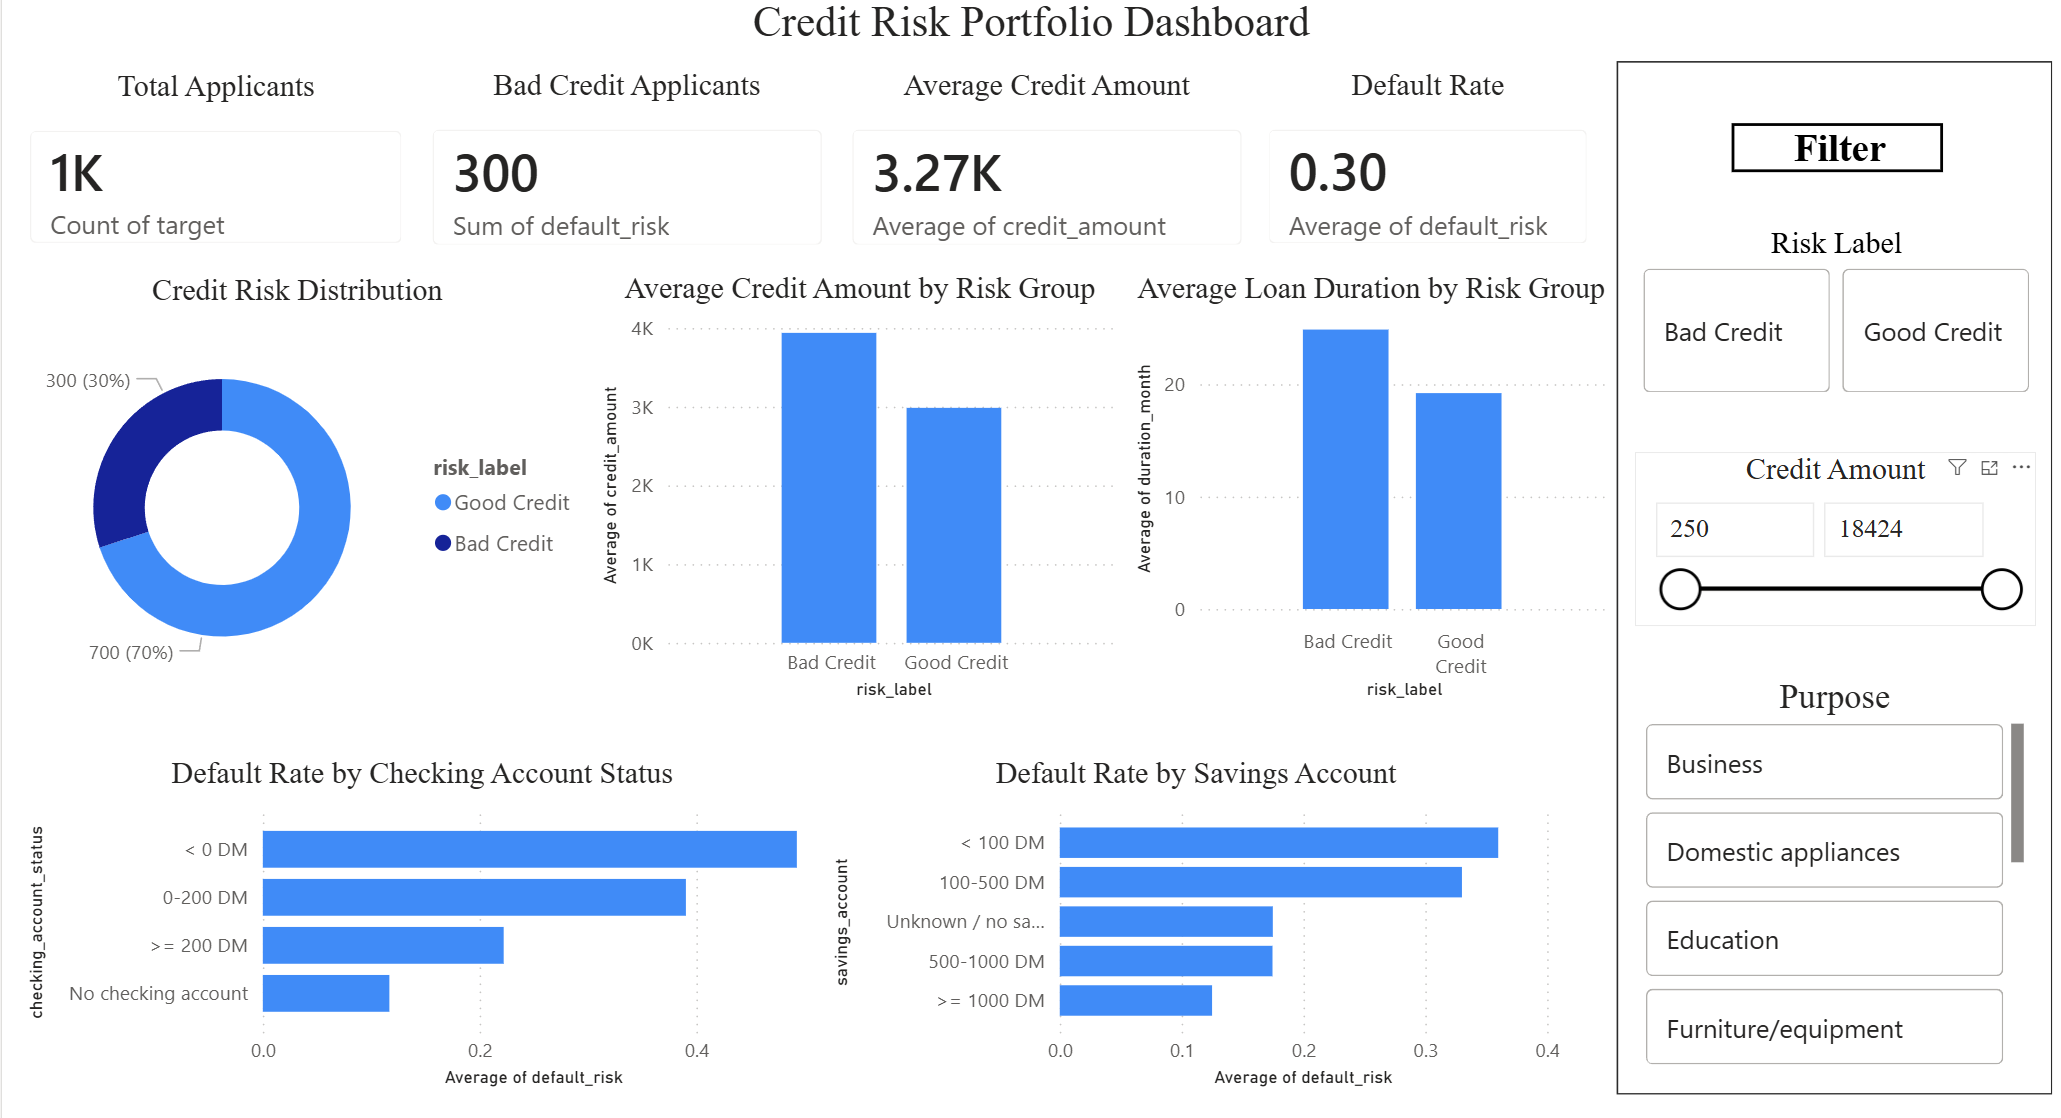

The dashboard page shown, as its layout file describes it:
{"tool":"powerbi","page":{"name":"Page 1","canvas":[1280,720],"ordinal":0},"visuals":[{"type":"shape","box":[1002.9,62.3,270.7,641.9],"z":0},{"type":"cardVisual","title":"Total Applicants","fields":{"Data":["CountNonNull(cleaned_german_credit_data.target)"]},"box":[0,67.4,265.9,125.8],"z":1000},{"type":"cardVisual","title":"Bad Credit Applicants","fields":{"Data":["Sum(cleaned_german_credit_data.default_risk)"]},"box":[250.3,66.1,276.2,127.1],"z":2000},{"type":"cardVisual","title":"Default Rate","fields":{"Data":["Avg(cleaned_german_credit_data.default_risk)"]},"box":[769.1,66.5,232.7,126.3],"z":3000},{"type":"cardVisual","title":"Average Credit Amount","fields":{"Data":["Avg(cleaned_german_credit_data.credit_amount)"]},"box":[511,66.1,276.2,127.1],"z":4000},{"type":"donutChart","title":"Credit Risk Distribution","fields":{"Category":["cleaned_german_credit_data.risk_label"],"Y":["CountNonNull(cleaned_german_credit_data.risk_label)"]},"box":[0,193.9,366.8,269.3],"z":5000},{"type":"clusteredBarChart","title":"Default Rate by Checking Account Status","fields":{"Category":["cleaned_german_credit_data.checking_account_status"],"Y":["Avg(cleaned_german_credit_data.default_risk)"]},"box":[10.4,494.1,500.6,210.1],"z":6000},{"type":"clusteredBarChart","title":"Default Rate by Savings Account","fields":{"Category":["cleaned_german_credit_data.savings_account"],"Y":["Avg(cleaned_german_credit_data.default_risk)"]},"box":[511,494.1,461.7,210.1],"z":7000},{"type":"clusteredColumnChart","title":"Average Credit Amount by Risk Group","fields":{"Category":["cleaned_german_credit_data.risk_label"],"Y":["Avg(cleaned_german_credit_data.credit_amount)"]},"box":[366.8,192.8,331.4,270.4],"z":8000},{"type":"clusteredColumnChart","title":"Average Loan Duration by Risk Group","fields":{"Category":["cleaned_german_credit_data.risk_label"],"Y":["Avg(cleaned_german_credit_data.duration_month)"]},"box":[698.2,192.8,303.7,270.4],"z":9000},{"type":"advancedSlicerVisual","title":"Risk Label","fields":{"Values":["cleaned_german_credit_data.risk_label"]},"box":[1014.3,165.2,250.4,108],"z":10000},{"type":"advancedSlicerVisual","title":"Purpose","fields":{"Values":["cleaned_german_credit_data.purpose"]},"box":[1015.6,444.9,245.3,246.6],"z":11000},{"type":"slicer","title":"Credit Amount","fields":{"Values":["cleaned_german_credit_data.credit_amount"]},"box":[1014.3,305.1,249.1,108],"z":12000},{"type":"textbox","box":[461.7,18.2,357.9,45.4],"z":13000},{"type":"textbox","title":"Filter","box":[1074.1,100.4,130.9,30.5],"z":14000}]}

Visuals, with their boxes on the page's 1280x720 design canvas (x1, y1, x2, y2). These are canvas units, not pixel positions in the 2061x1118 screenshot, which may show the page scaled, cropped or inside an application window:
shape: rect(1003, 62, 1274, 704)
"Total Applicants" cardVisual: rect(0, 67, 266, 193)
"Bad Credit Applicants" cardVisual: rect(250, 66, 526, 193)
"Default Rate" cardVisual: rect(769, 66, 1002, 193)
"Average Credit Amount" cardVisual: rect(511, 66, 787, 193)
"Credit Risk Distribution" donutChart: rect(0, 194, 367, 463)
"Default Rate by Checking Account Status" clusteredBarChart: rect(10, 494, 511, 704)
"Default Rate by Savings Account" clusteredBarChart: rect(511, 494, 973, 704)
"Average Credit Amount by Risk Group" clusteredColumnChart: rect(367, 193, 698, 463)
"Average Loan Duration by Risk Group" clusteredColumnChart: rect(698, 193, 1002, 463)
"Risk Label" advancedSlicerVisual: rect(1014, 165, 1265, 273)
"Purpose" advancedSlicerVisual: rect(1016, 445, 1261, 692)
"Credit Amount" slicer: rect(1014, 305, 1263, 413)
textbox: rect(462, 18, 820, 64)
"Filter" textbox: rect(1074, 100, 1205, 131)
